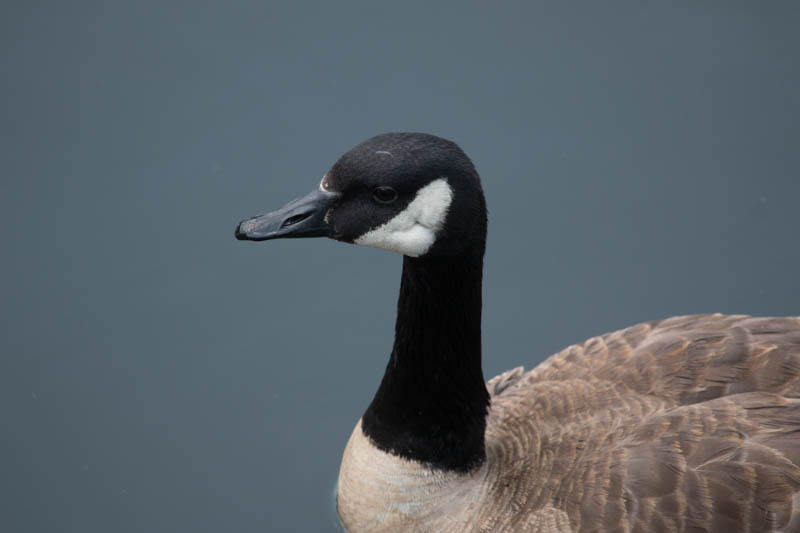goose-head: (233, 132, 489, 258)
